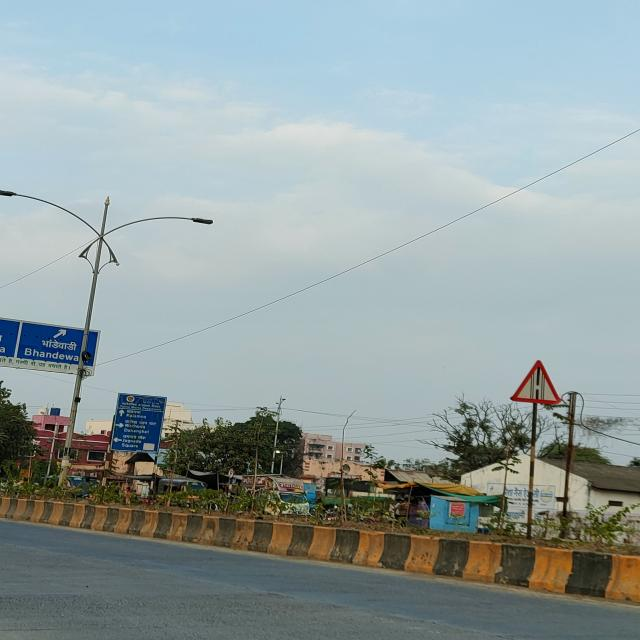ferry: (510, 361, 561, 403)
